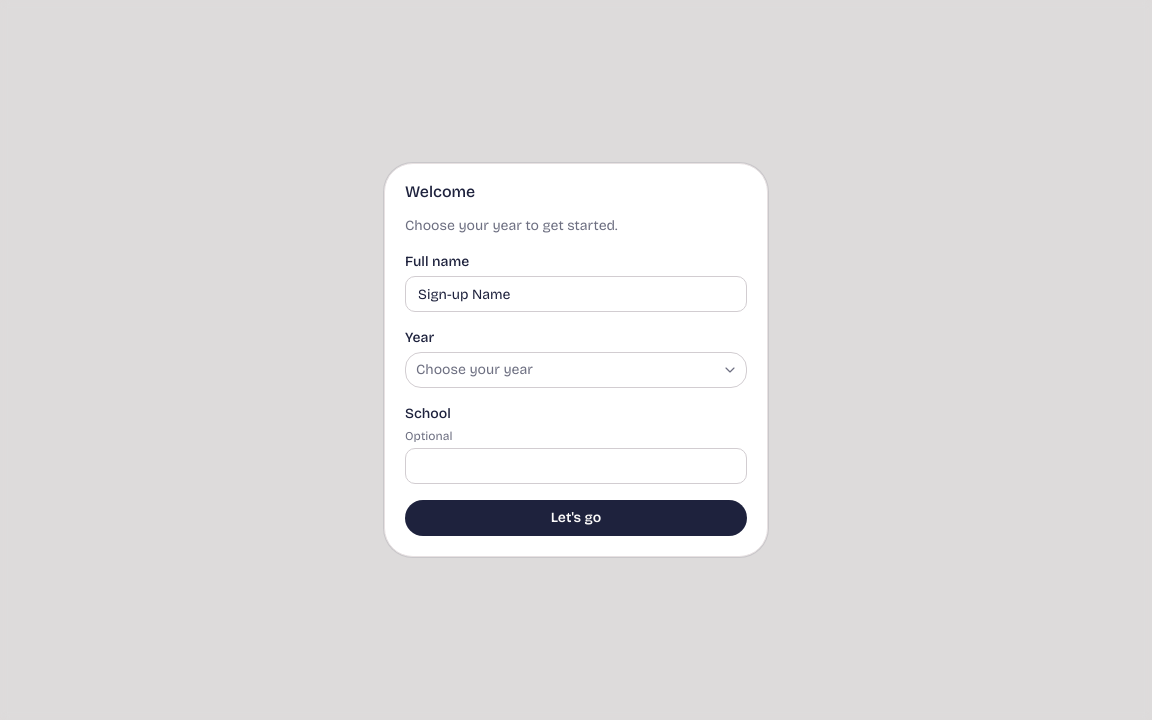
Scenario: keeps welcome open on Escape and preserves the draft after a failed save
Press Escape in the dialog "Welcome", box 384,163 -> 768,557
Replace the text in the field labelled "Full name" with "Edited Name": (576, 294) 405,276 -> 747,312
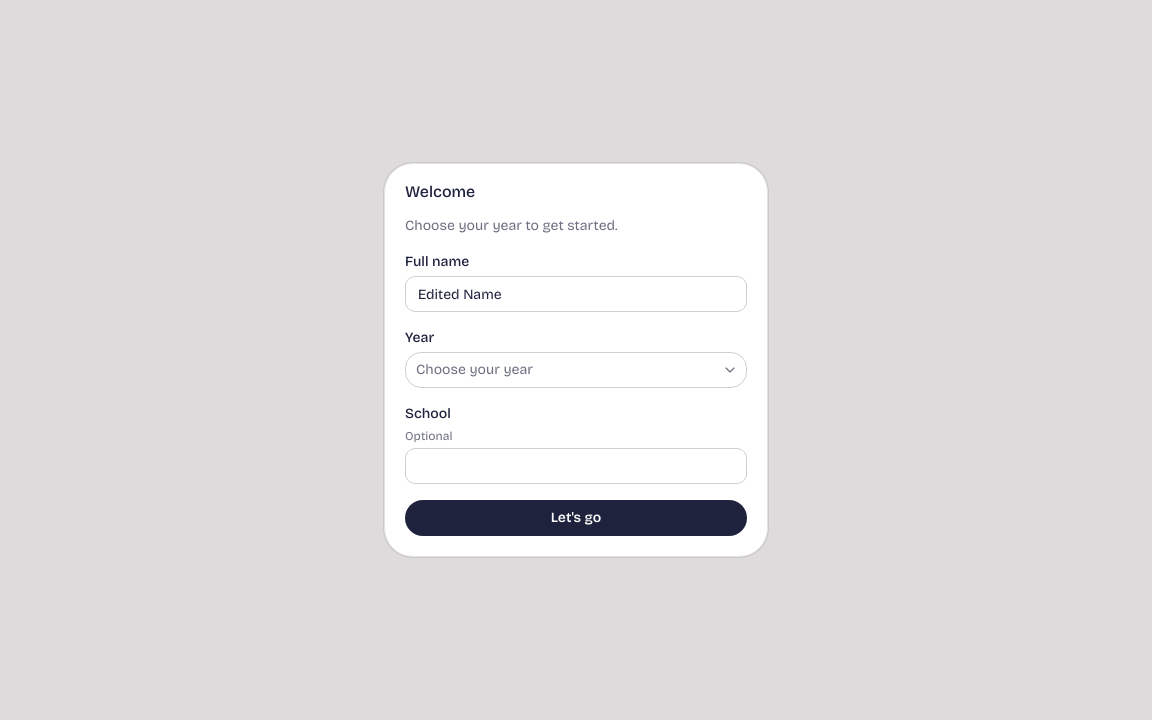
In the field labelled "School": (576, 466) 405,448 -> 747,484, type "Draft School"
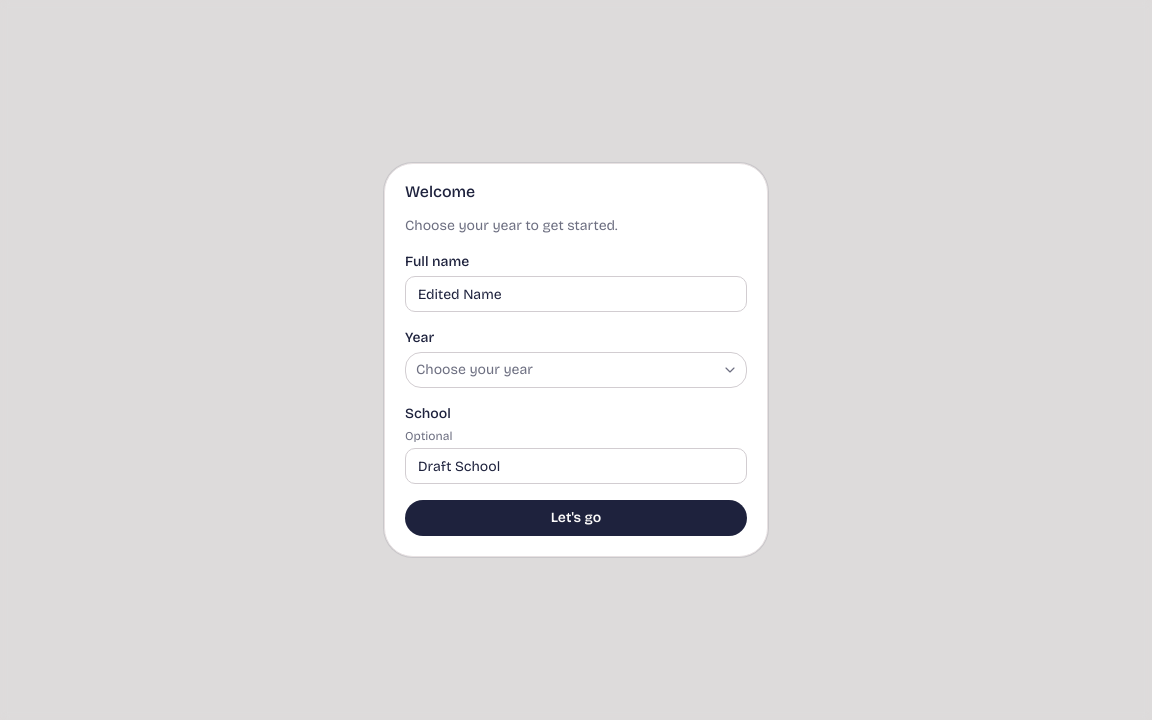
Note: Submit directly to exercise the failed-action path independently of native validation.
Submit the form "Let's go", box 405,252 -> 747,536
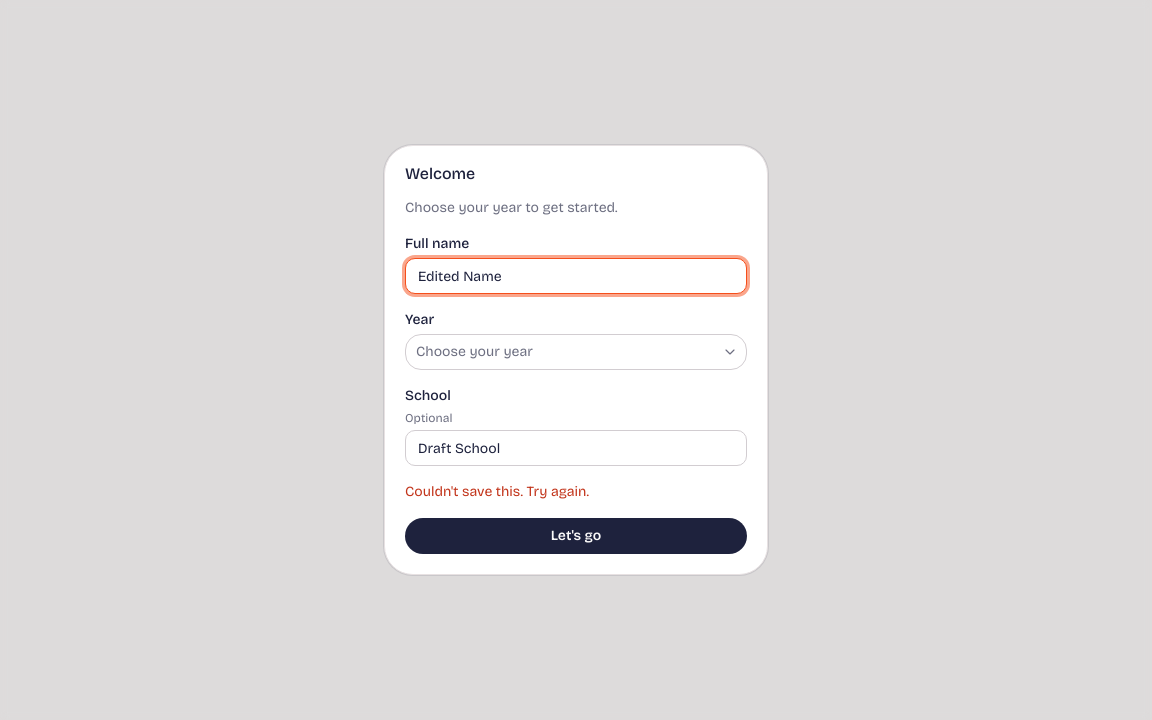
Expected: the dialog "Welcome" is shown, 384,145 -> 768,575
Result: the message reads "Couldn't save this. Try again." at 405,483 -> 589,500
